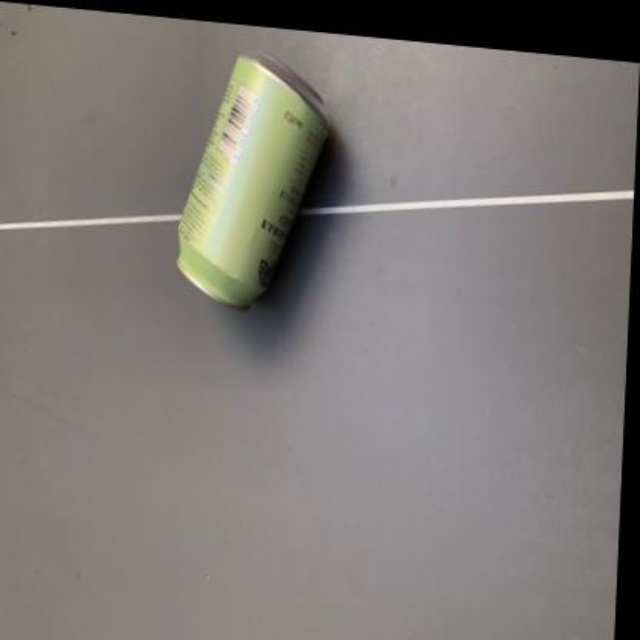trash: (177, 54, 326, 306)
